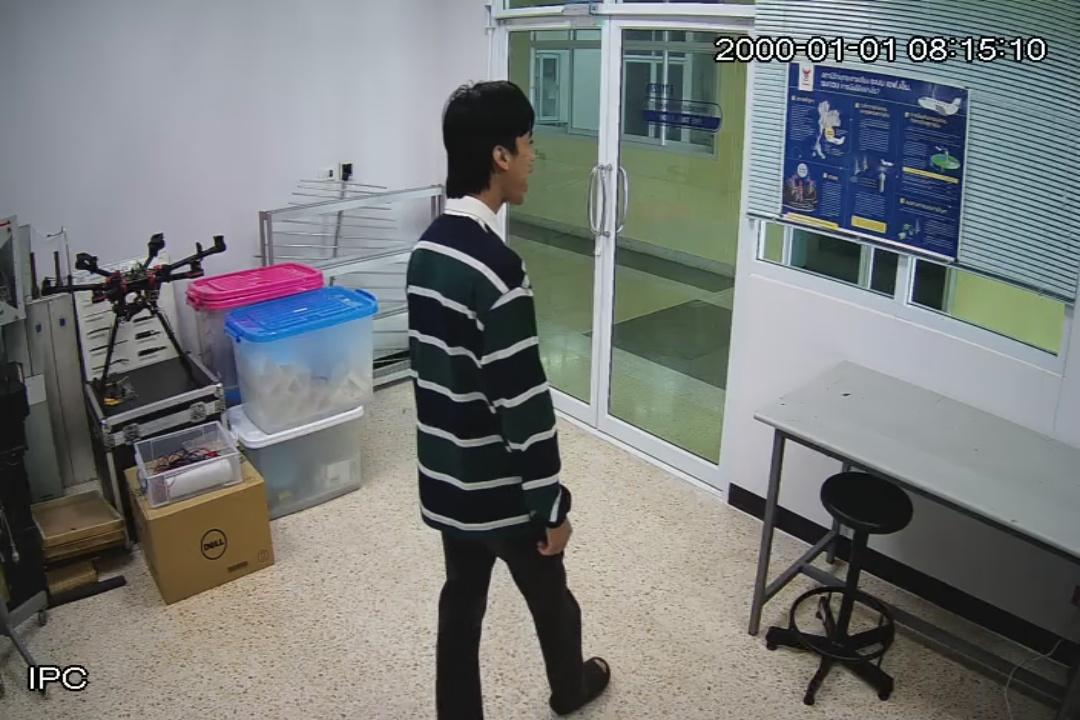normal: (404, 79, 612, 720)
